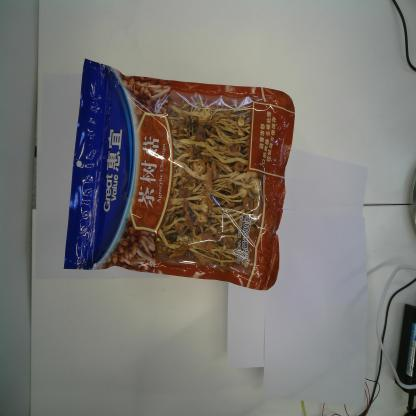Dried Food: (63, 57, 295, 291)
